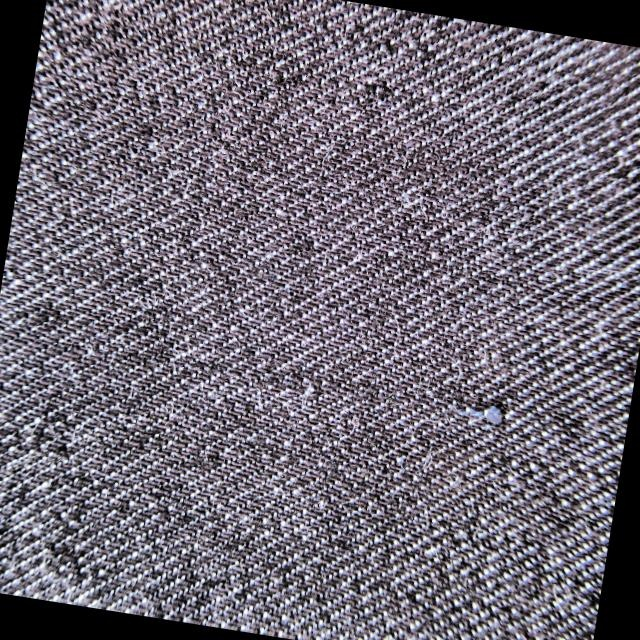Hole: (434, 356, 562, 469)
